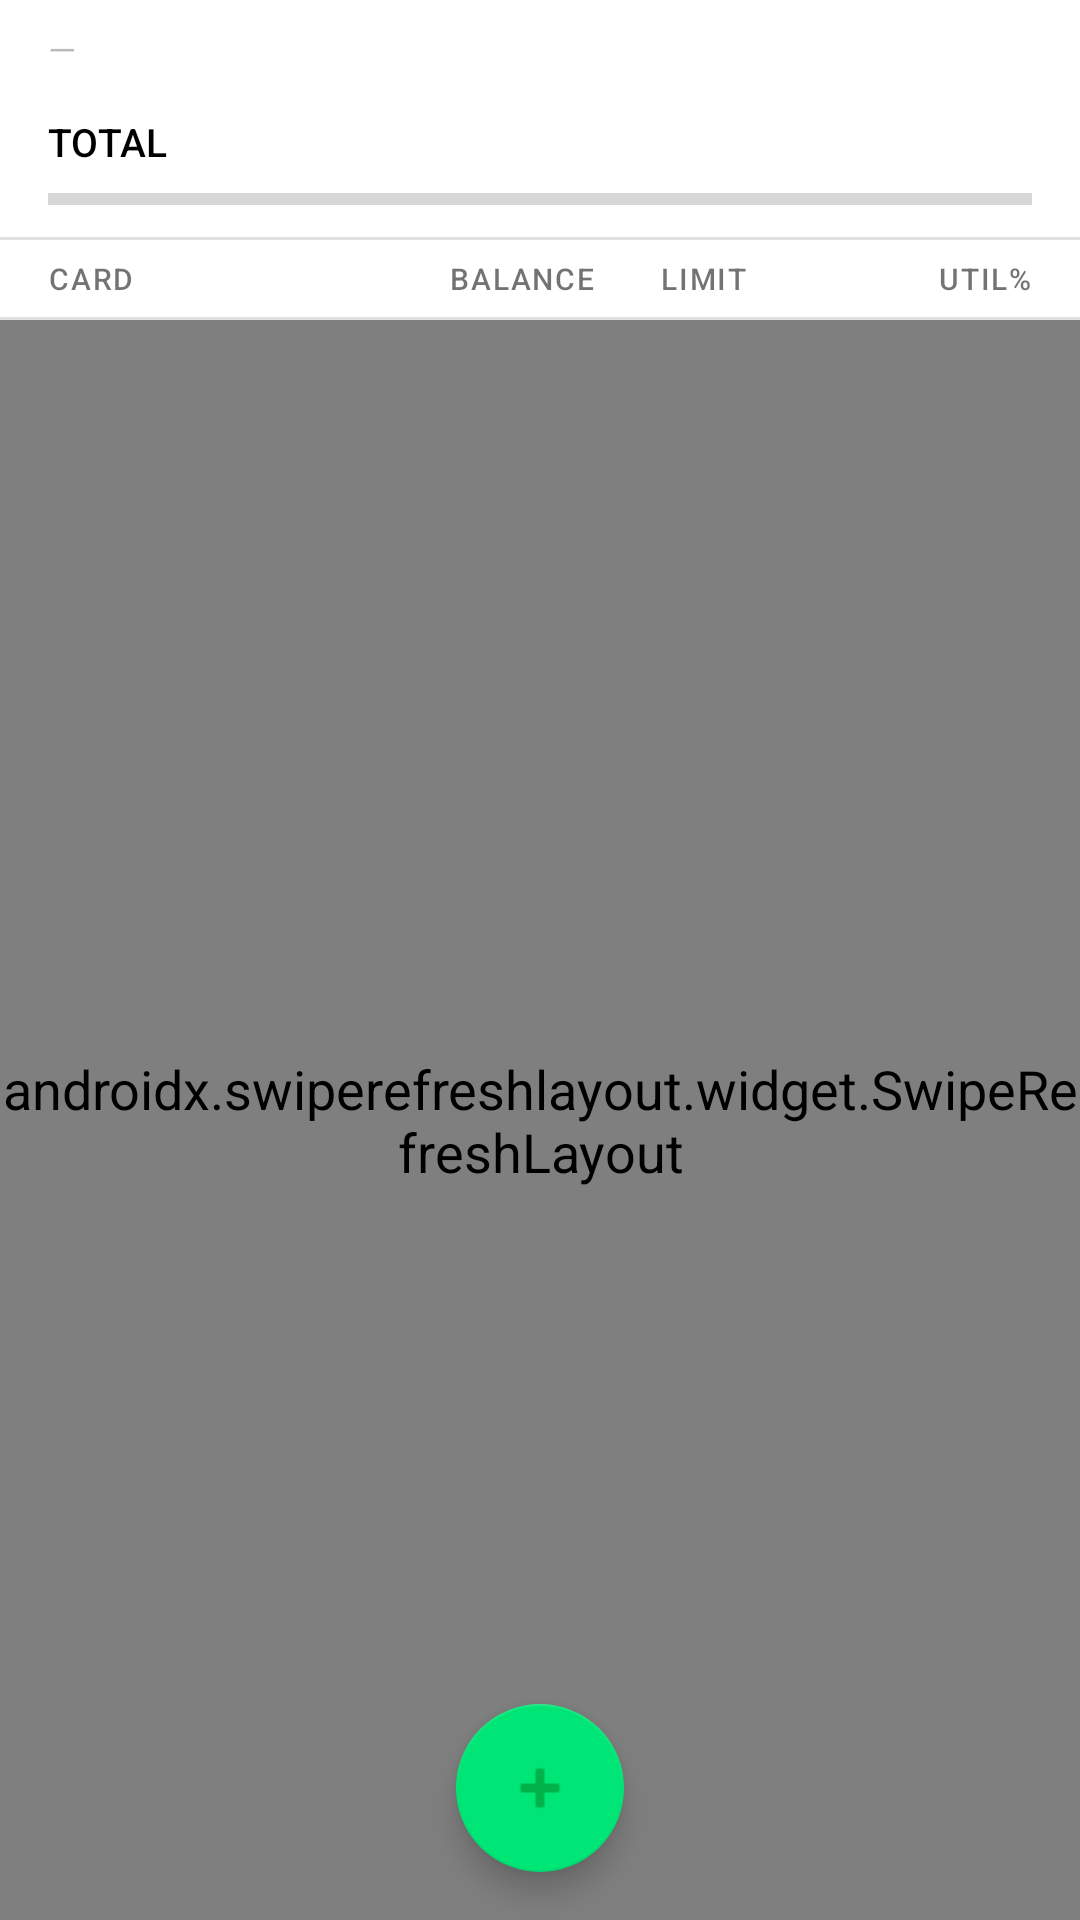

Icons on this 1080×1920 Android screen, each with the point to tap as [x,y]:
Add credit card: [540,1788]
